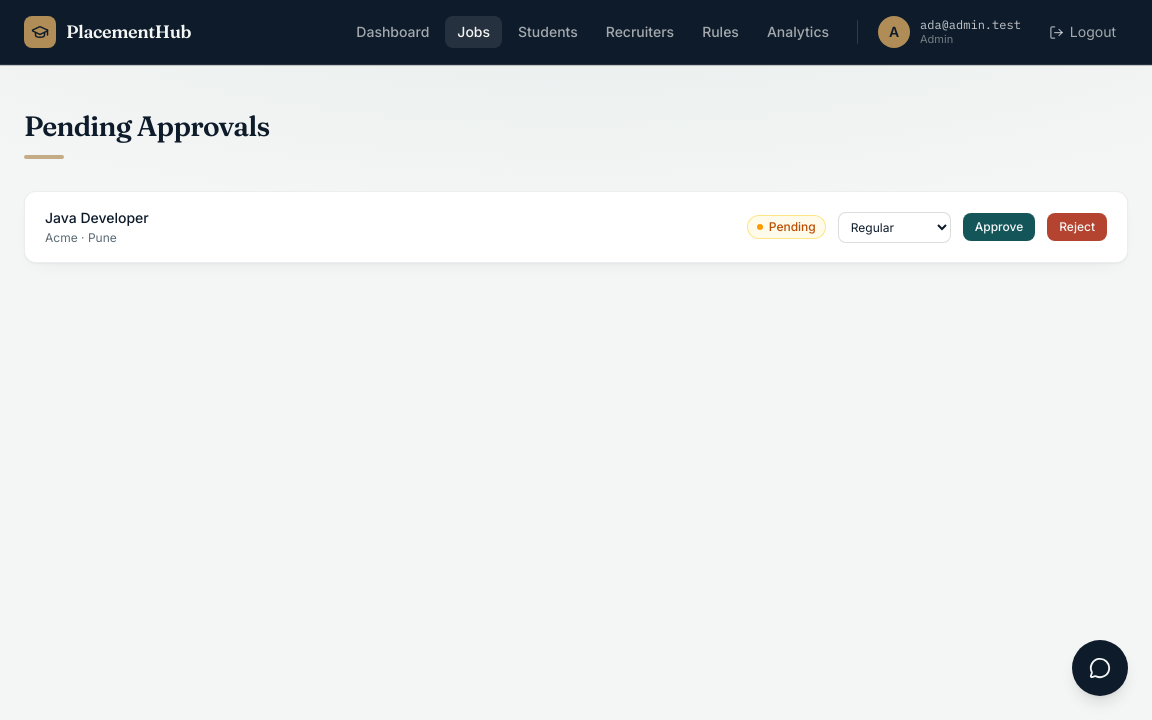
Test case: Admin jobs page › shows the server message when a decision is refused
This screenshot has width=1152, height=720.
Click the button "Approve".
click(999, 227)  # box [963, 213, 1035, 241]
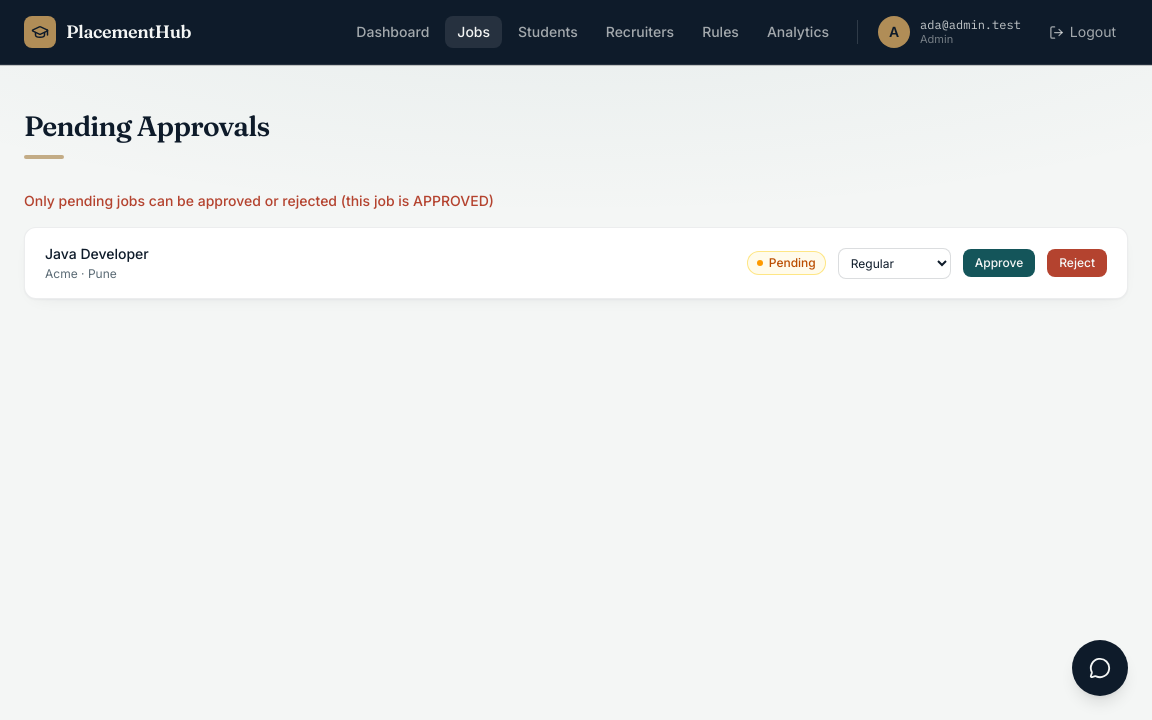
Check: the text "Only pending jobs can be approved" is shown, box [24, 192, 494, 209]
